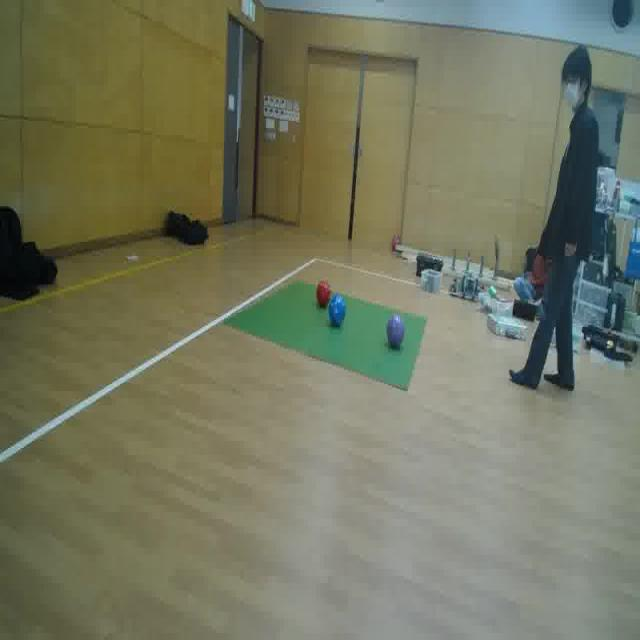blue_ball: (329, 295, 347, 329)
purple_ball: (387, 316, 405, 348)
red_ball: (317, 278, 332, 306)
